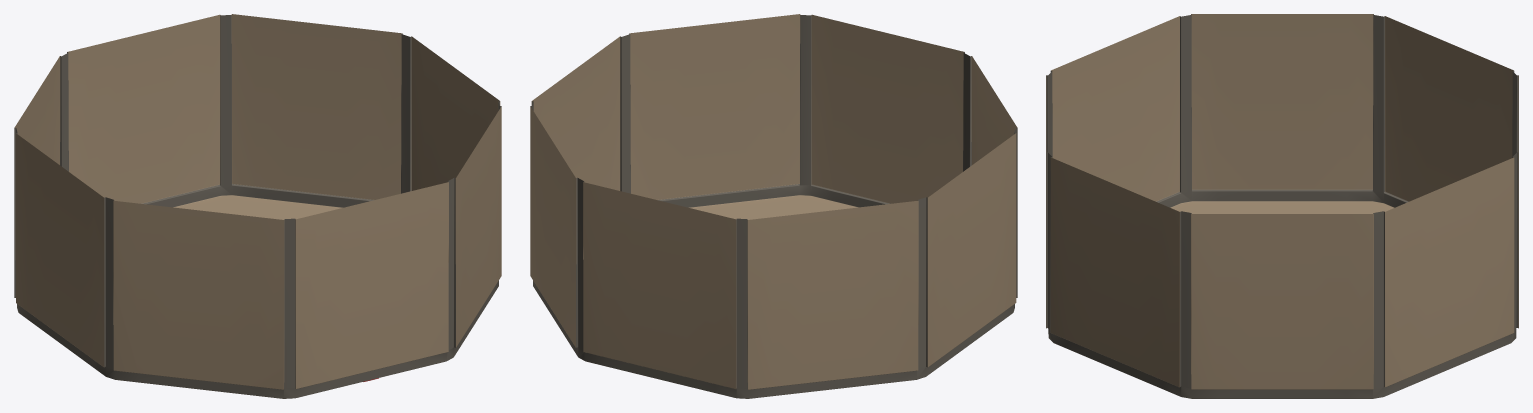
Rendered from 2024_06 - Lobby Scene.fbx.
The picture shows the model from 3 angles, left to right: view 1: azimuth 30°, elevation 25°; view 2: azimuth 150°, elevation 25°; view 3: azimuth 270°, elevation 25°; orthographic projection. The views are drawn at different scales.
Visible parts, largest first — view 1: Floor; view 2: Floor; view 3: Floor.
Boxes of the visible parts, x1,y1,x2,y2 form: Floor: (14, 14, 501, 398); Floor: (530, 14, 1017, 398); Floor: (1046, 14, 1518, 398).
Bounding box in the file's own units: 2412 × 1049 × 2412.
